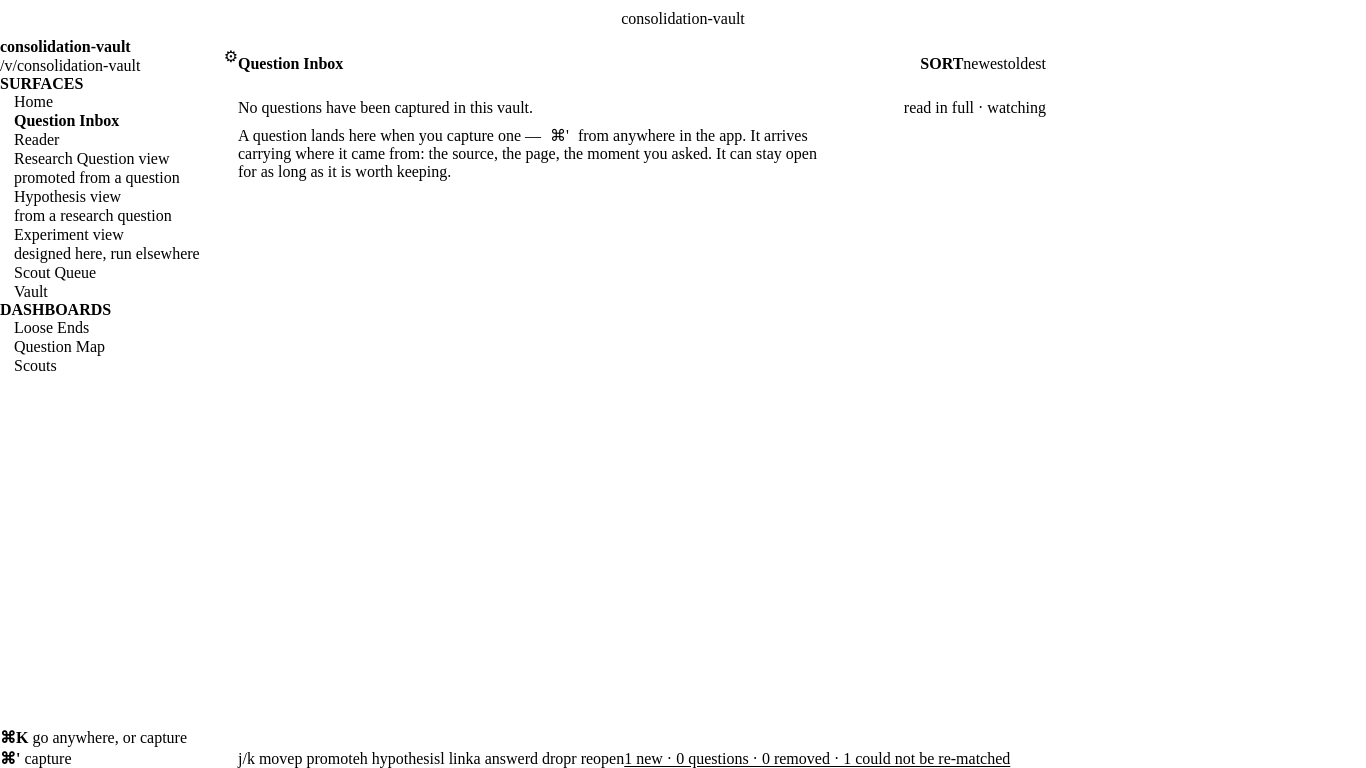
the panel › says so as a status line, not an alert, and never as an empty panel
The width and height of the screenshot is (1366, 768).
Expected: the element "Question Inbox" is shown, x1=238 y1=38 x2=1046 y2=767
Click the button "1 new · 0 questions · 0 removed · 1 could not be re-matched": (817, 759) x1=624 y1=750 x2=1010 y2=767
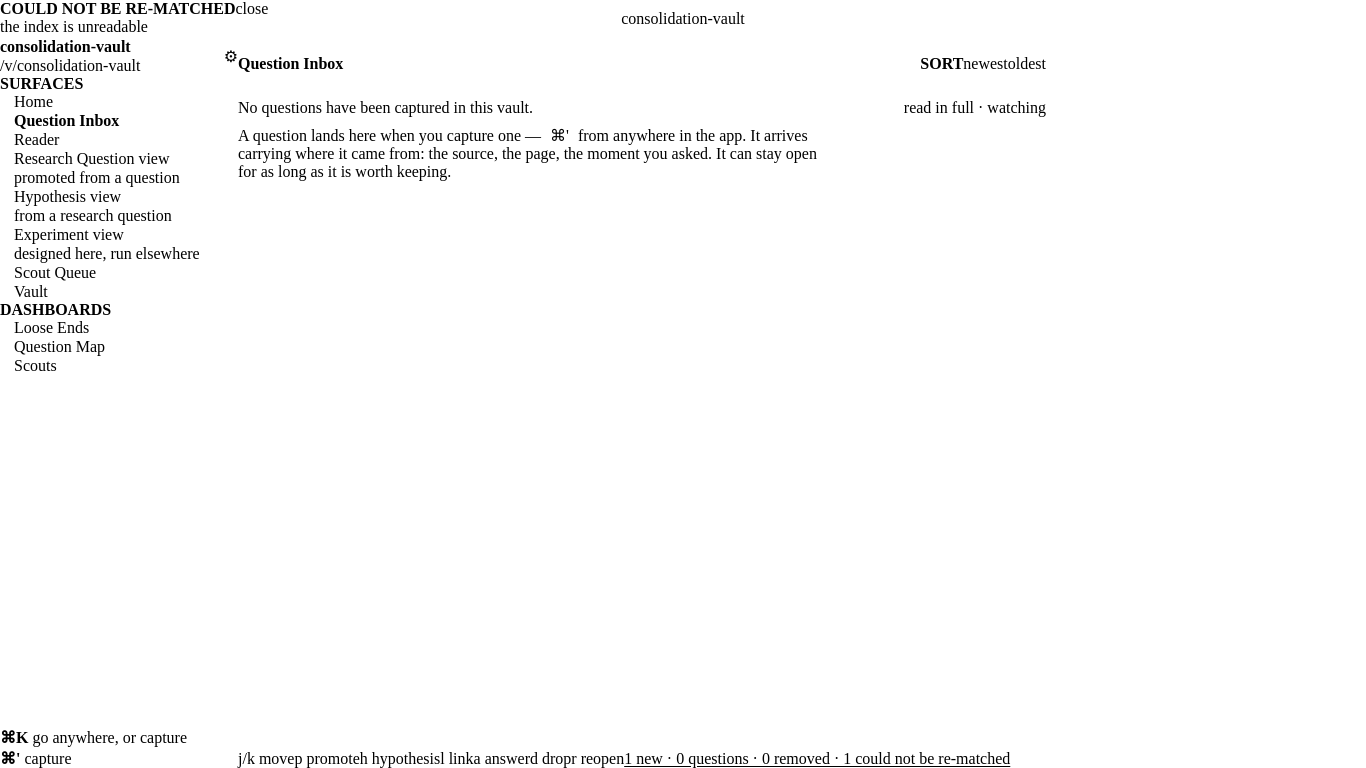
Result: the message "the index is unreadable" is shown at x1=0 y1=18 x2=148 y2=35
